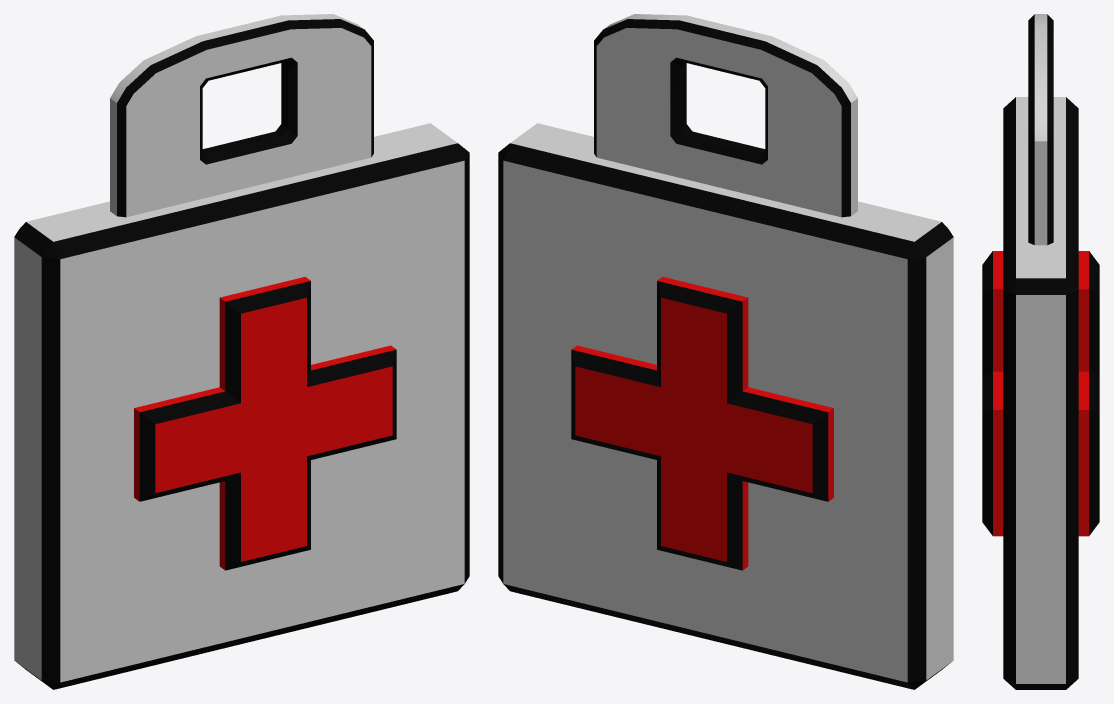
File: Medpack_Large.fbx
The picture shows the model from 3 angles, left to right: view 1: azimuth 30°, elevation 25°; view 2: azimuth 150°, elevation 25°; view 3: azimuth 270°, elevation 25°; orthographic projection. The views are drawn at different scales.
Visible parts, largest first — view 1: pCube1; view 2: pCube1; view 3: pCube1.
Part boxes in pixels (x1,y1,x2,y2): pCube1: (14, 14, 469, 689); pCube1: (498, 14, 953, 689); pCube1: (982, 14, 1099, 689).
Bounding box in the file's own units: 14.89 × 20.01 × 3.84.
